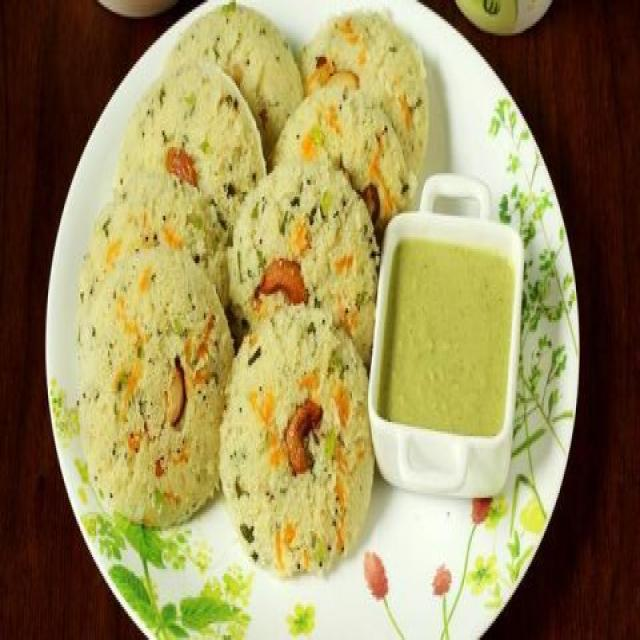IDLI: (79, 21, 265, 299), (77, 247, 233, 526), (236, 57, 417, 284), (220, 308, 372, 574), (229, 161, 377, 358), (300, 9, 427, 187), (180, 5, 303, 147), (331, 280, 375, 363)
